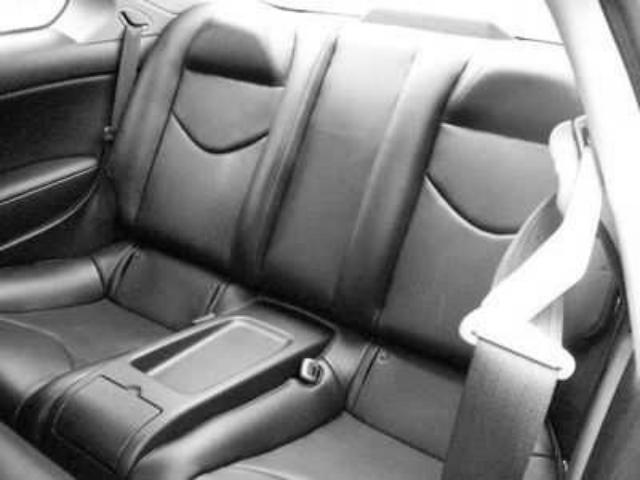Seatbelt: (432, 112, 584, 480)
